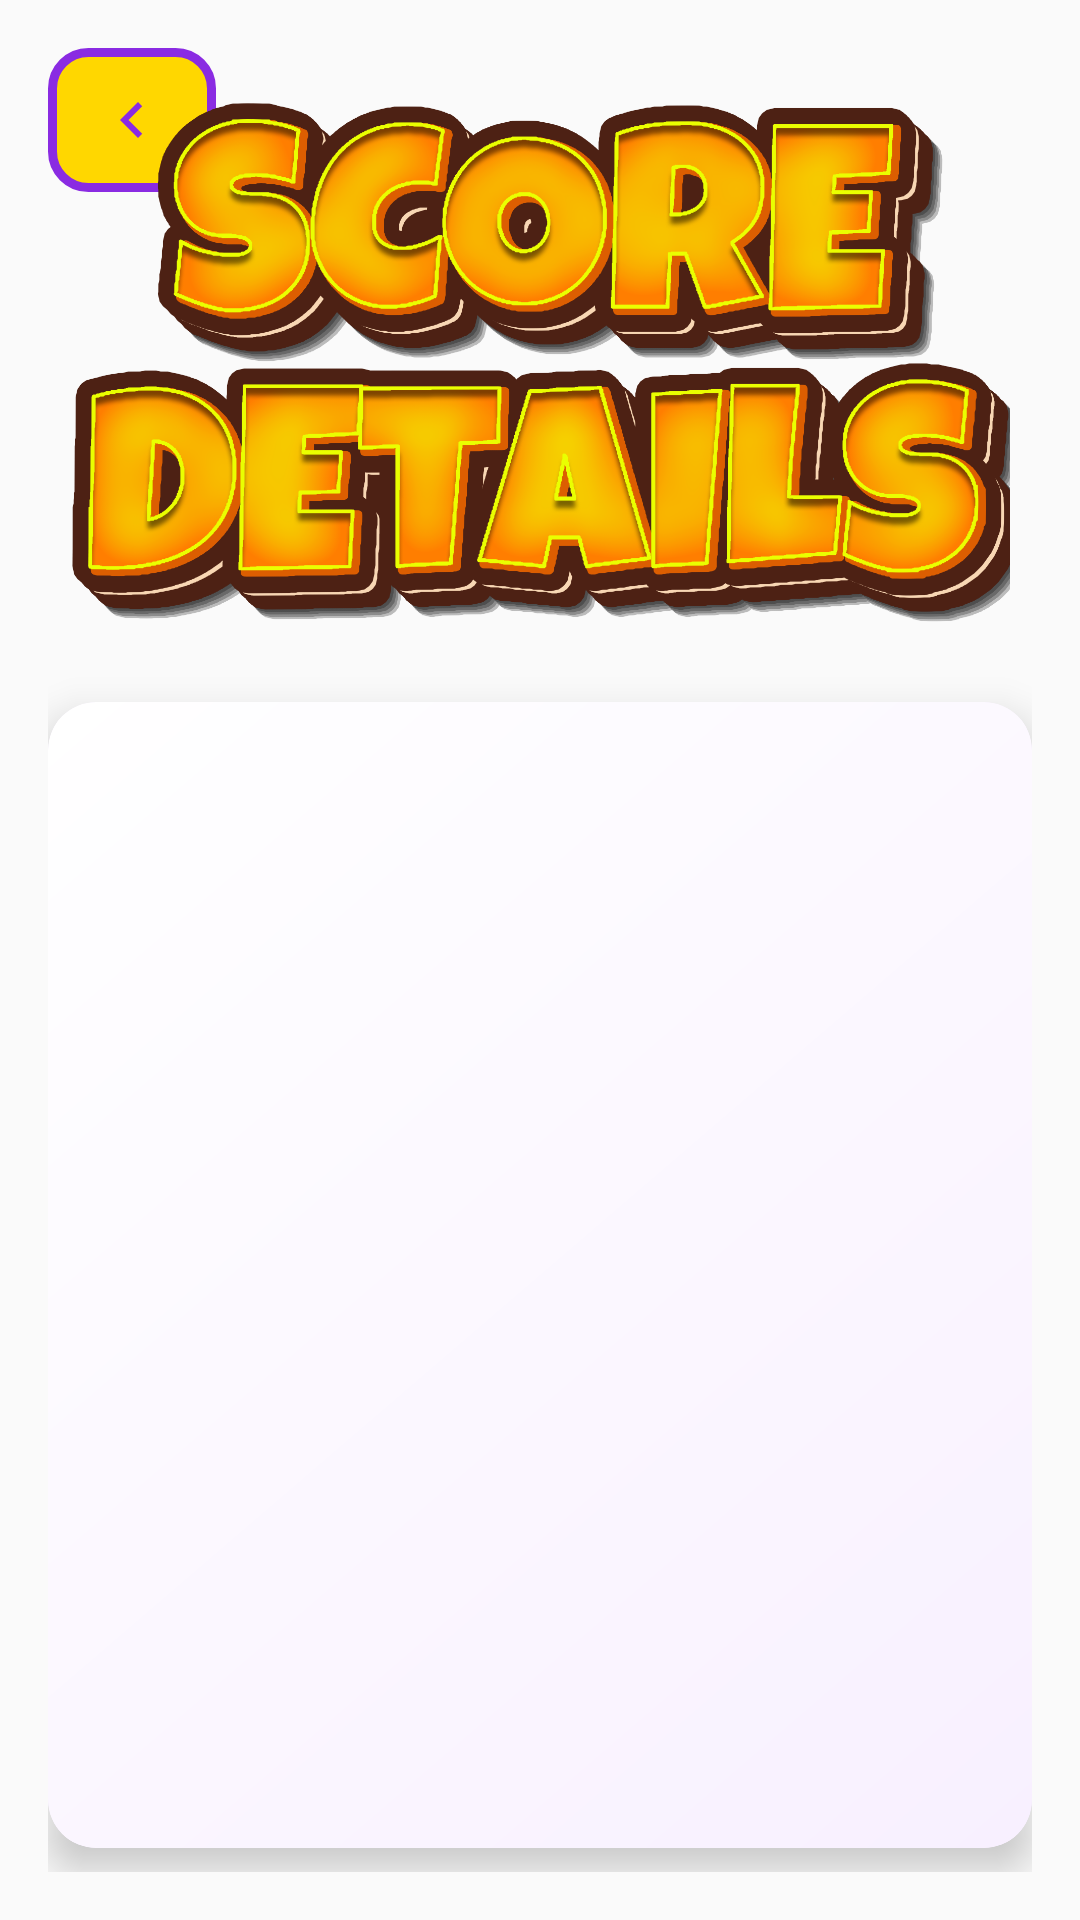

Icon click points for this 1080 x 1920 phone screenshot, format point (x, y):
Back: point (132, 120)
